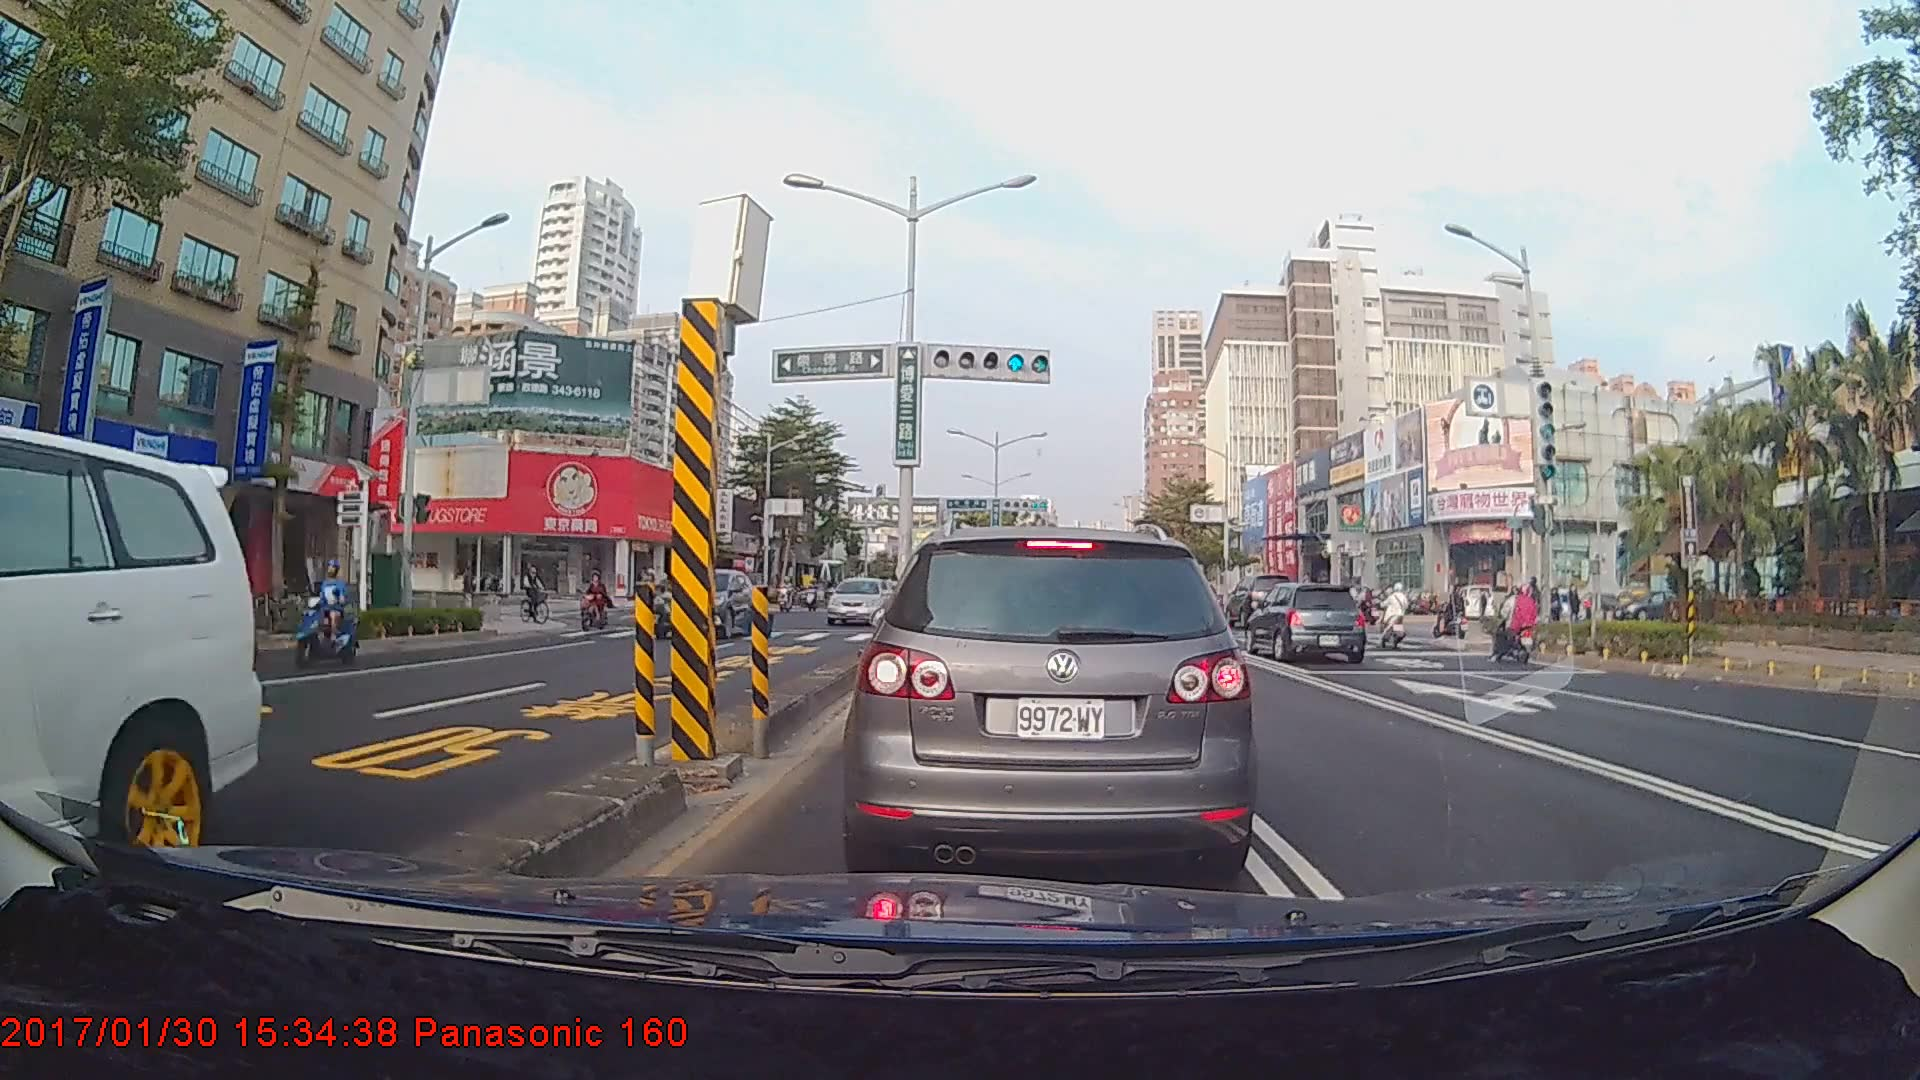rider: (1485, 582, 1548, 668), (573, 567, 619, 639), (518, 559, 561, 629), (1436, 582, 1473, 646)
vehicle: (853, 520, 1249, 879), (0, 422, 258, 889), (1242, 581, 1366, 663), (648, 568, 757, 639), (1222, 571, 1293, 627), (825, 575, 892, 625)
